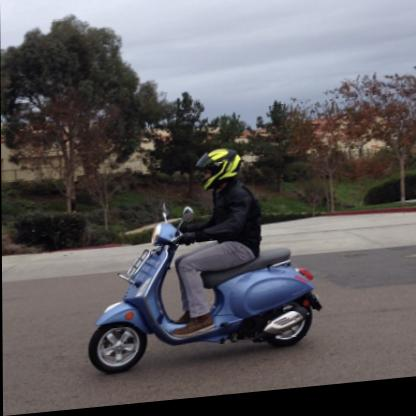With Helmet: (187, 145, 249, 200)
